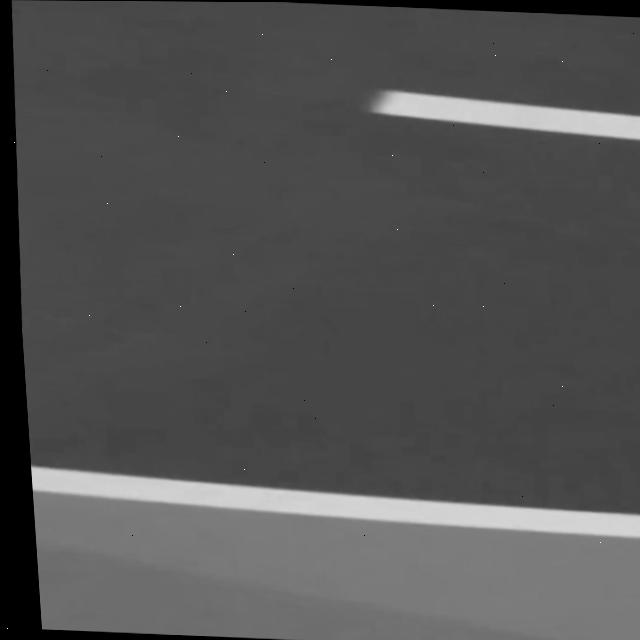center: (371, 89, 640, 138)
right: (31, 464, 640, 536)
